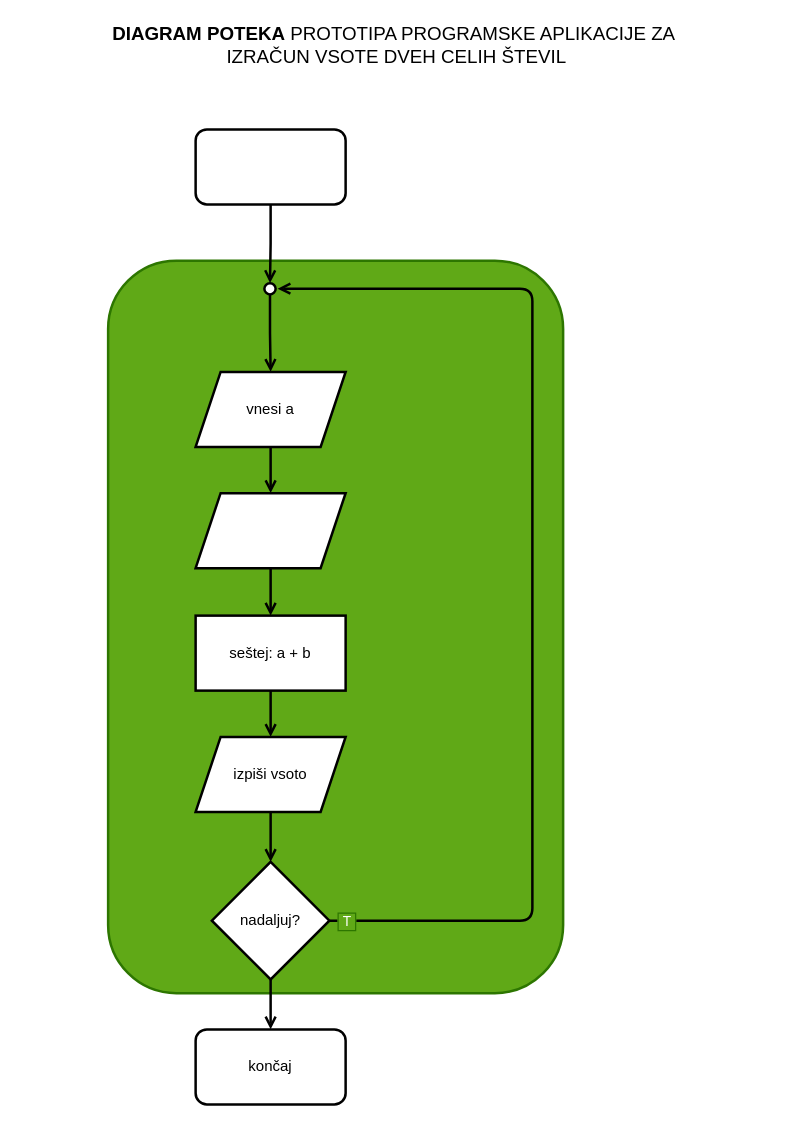
This 793x1126 diagram has some shape labels left out. The box of each missing label's shape, as (x1, y1, x2, y2) in pixels:
vnesi b: (194, 491, 346, 569)
začni: (194, 128, 346, 205)
